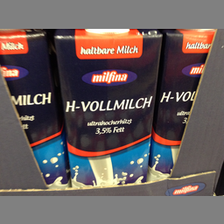milk: (53, 28, 161, 185), (1, 31, 69, 185), (154, 28, 218, 176)
